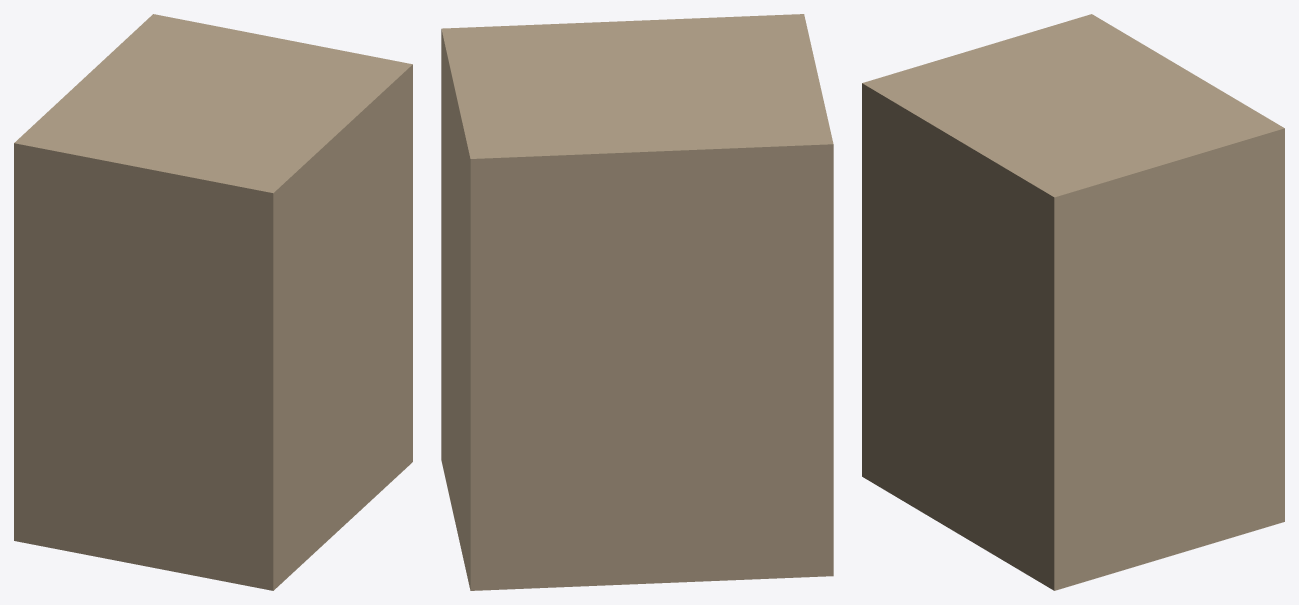
File: bld_163484287.dae
3 renders of one model, left to right at view 1: azimuth 30°, elevation 25°; view 2: azimuth 150°, elevation 25°; view 3: azimuth 270°, elevation 25°, orthographic. The views are drawn at different scales.
Parts seen in each view (by area): view 1: bld_163484287; view 2: bld_163484287; view 3: bld_163484287.
Boxes of the visible parts, x1=… form: bld_163484287: x1=14, y1=14, x2=412, y2=590; bld_163484287: x1=441, y1=14, x2=833, y2=590; bld_163484287: x1=862, y1=14, x2=1284, y2=590.
Size of the model in its own units: 8 by 7.79 by 8.
